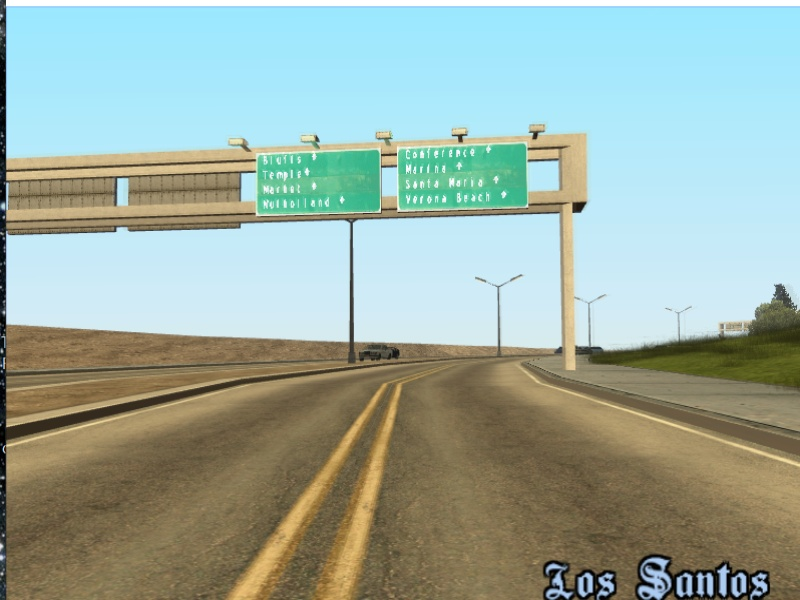pole: (552, 206, 587, 377), (345, 222, 361, 369), (494, 287, 505, 361), (585, 301, 593, 357)
vehicle: (357, 340, 398, 363)
